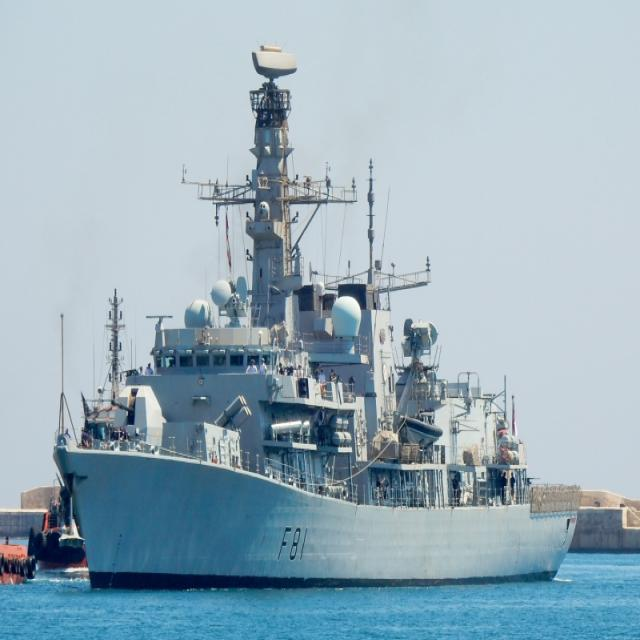Fragata: (49, 38, 581, 600)
